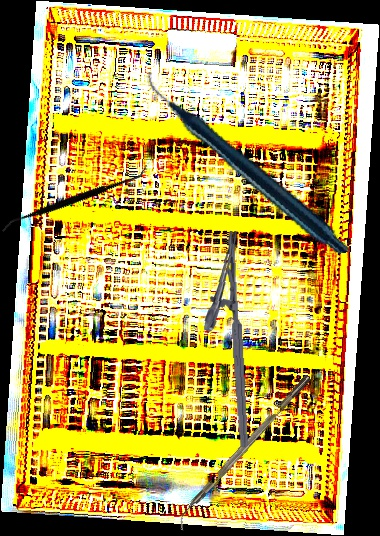Chopper: (170, 374, 319, 532)
Handpiece: (145, 36, 352, 288)
Needle Holder: (197, 230, 251, 449)
Spatula Surgical: (0, 118, 149, 278)
